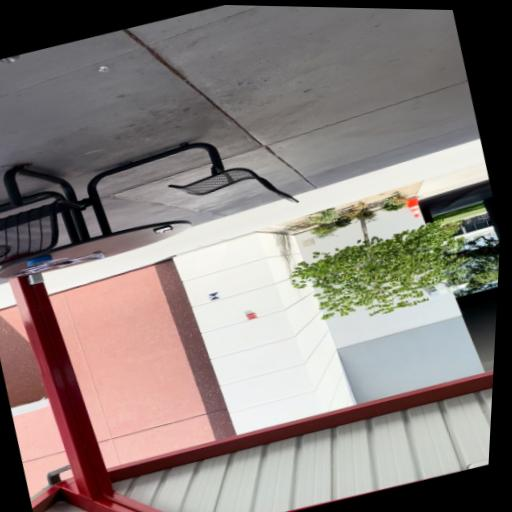target6: (206, 291, 221, 301)
